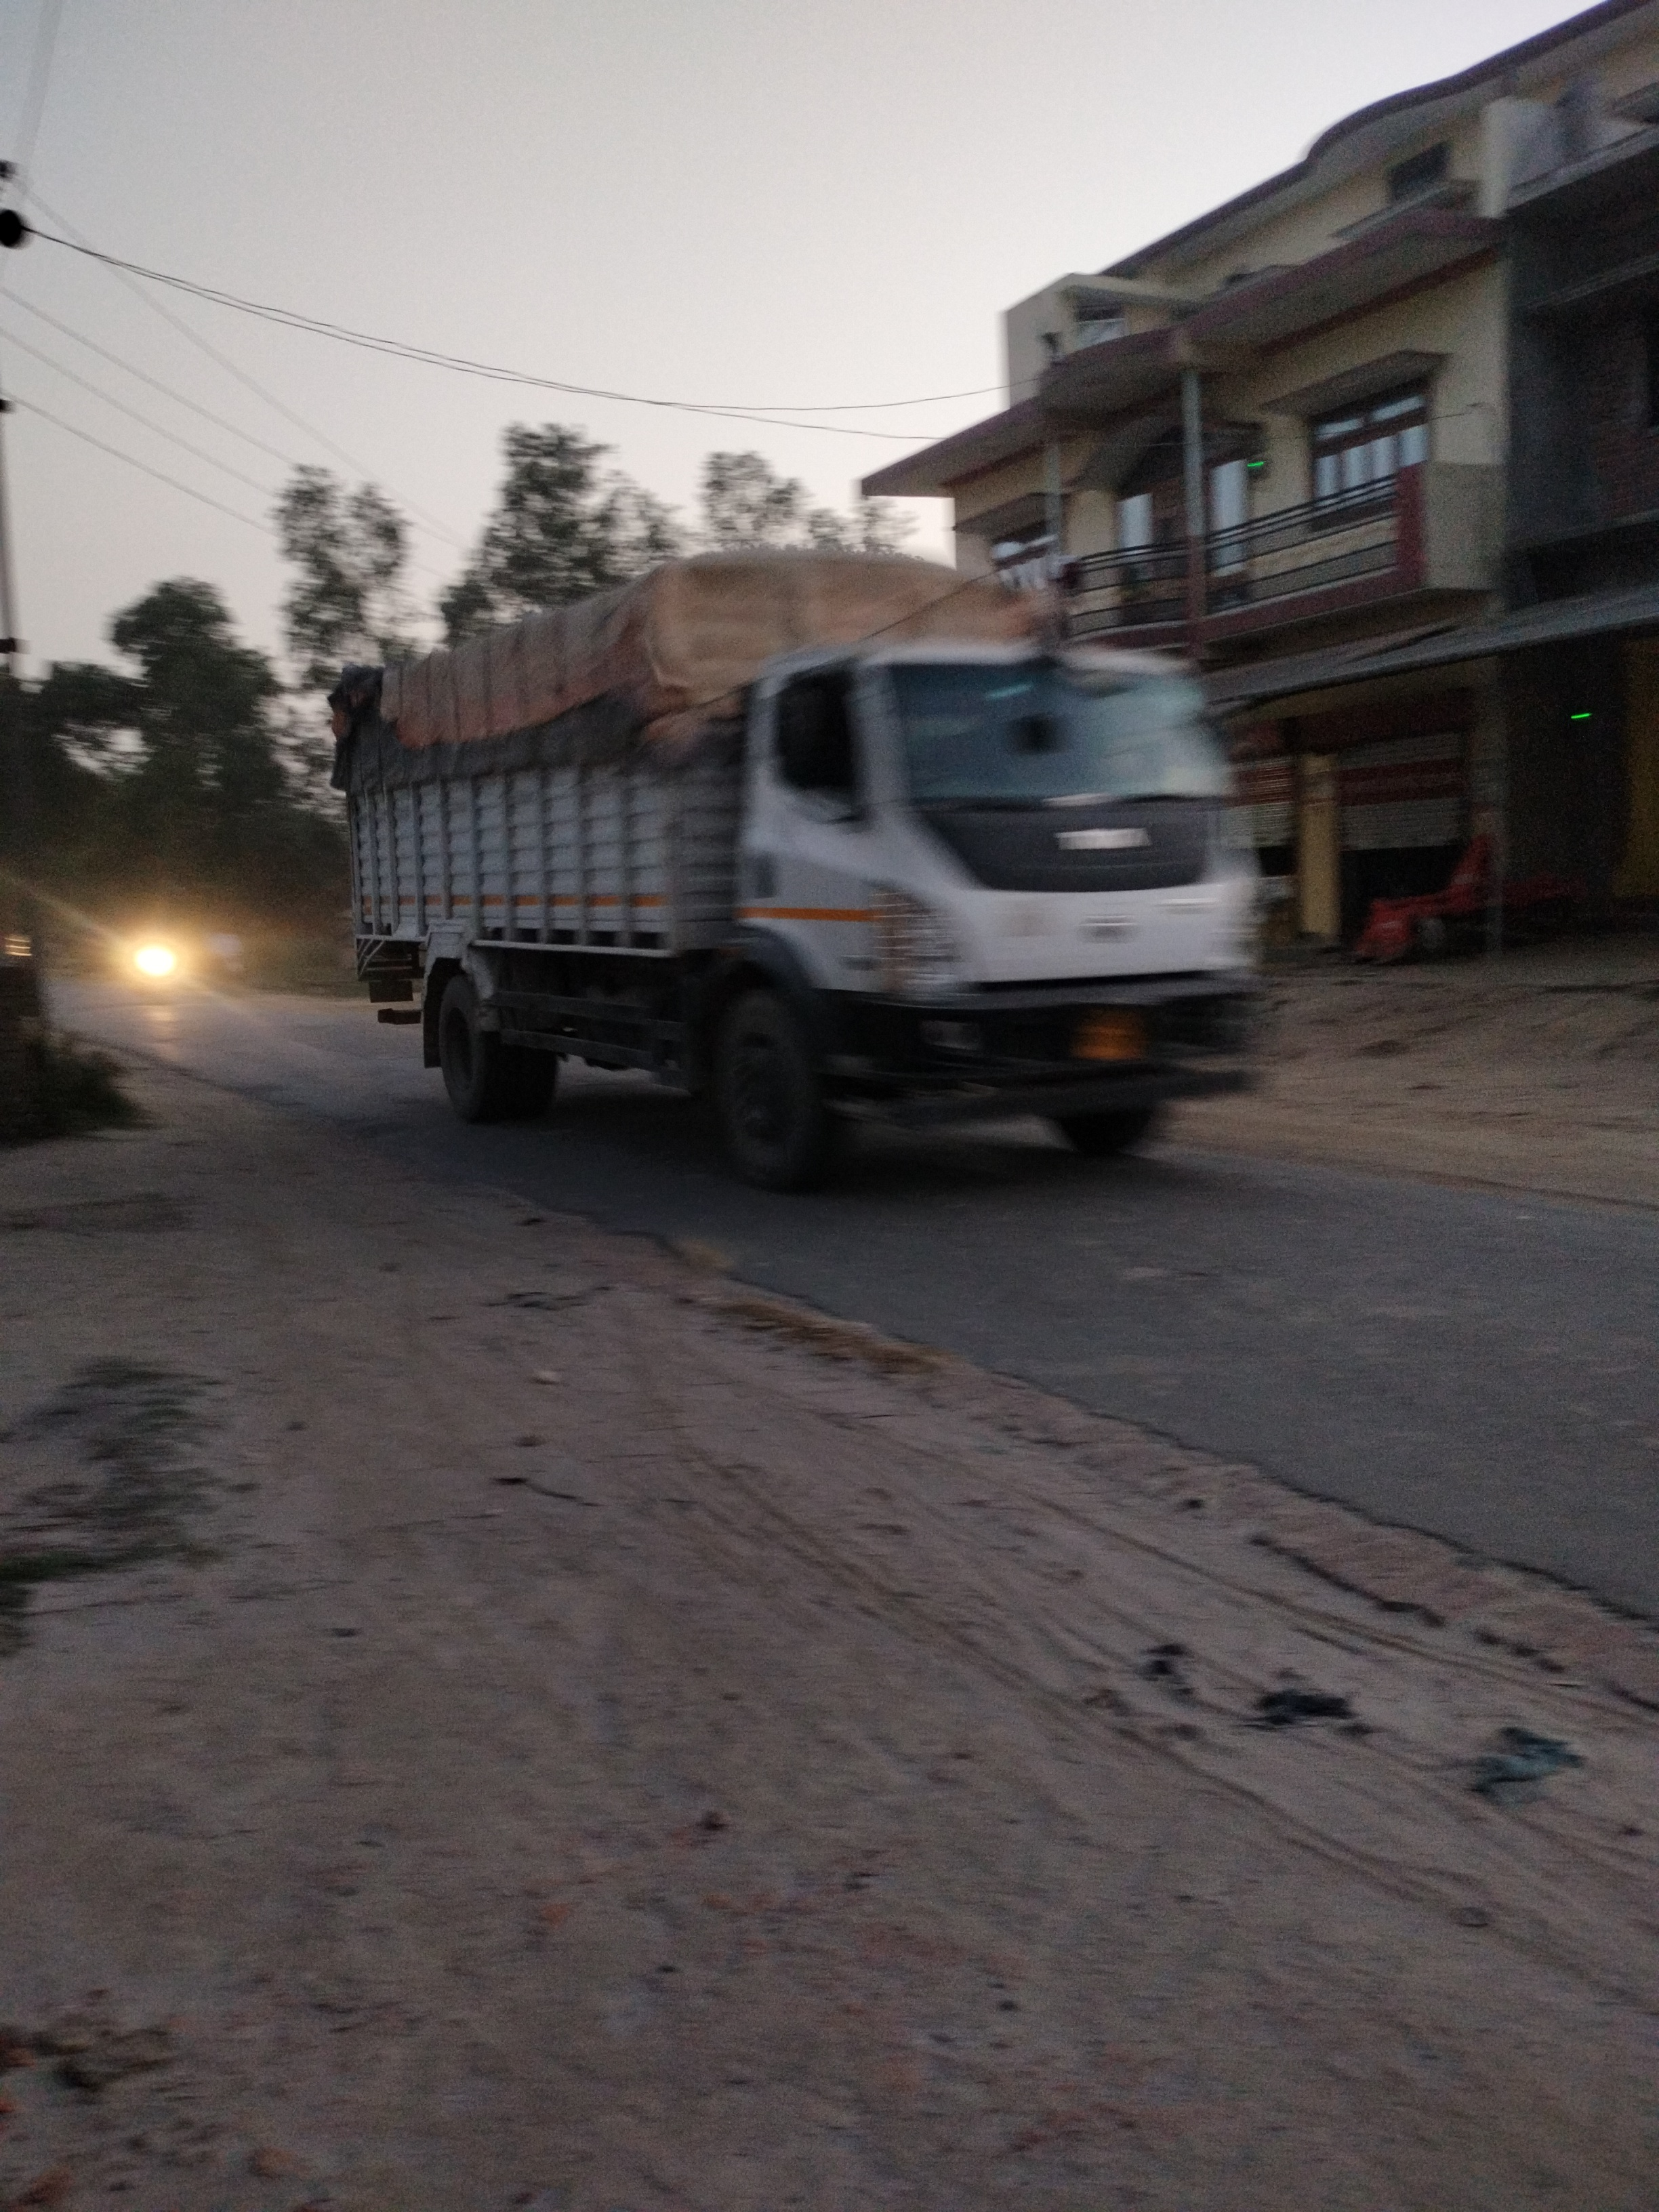truck: (326, 540, 1279, 1195)
